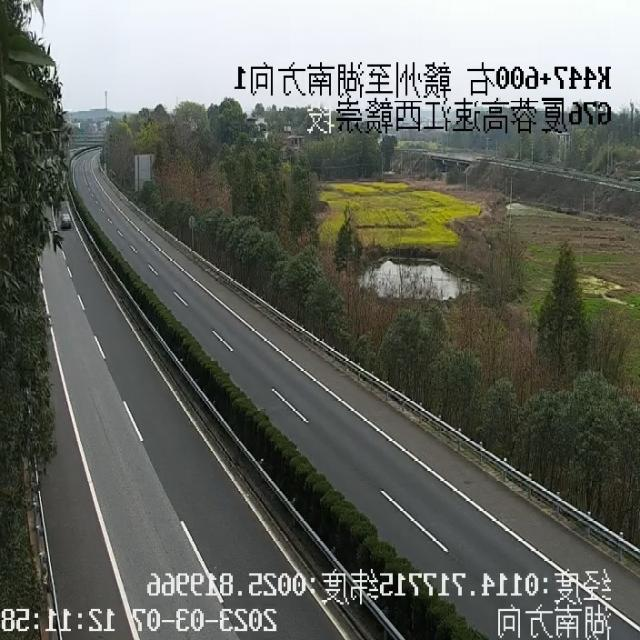cover: (44, 208, 76, 250)
point: (67, 132, 112, 182)
